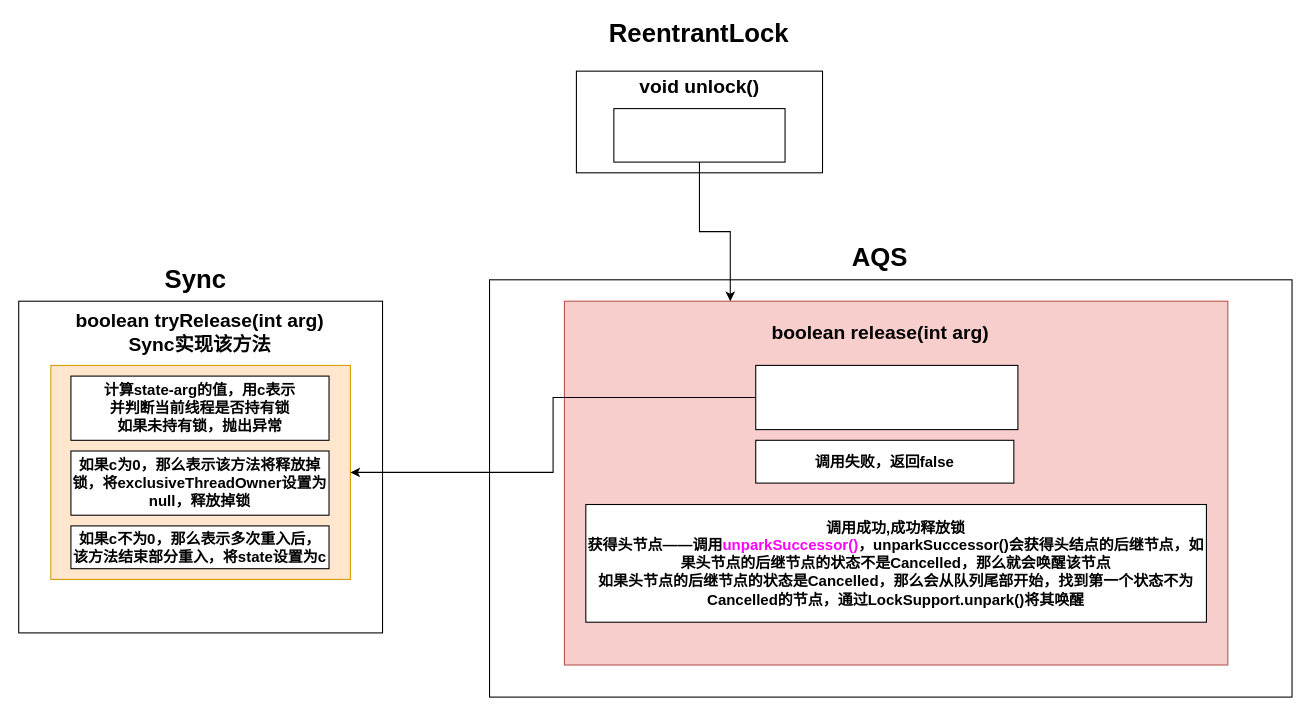
This 1311x716 diagram has some shape labels left out. Each missing label, with the box of its shape:
sync.release(1): (613, 108, 785, 162)
调用 tryRelease(arg)(由子类实现): (755, 364, 1018, 430)
